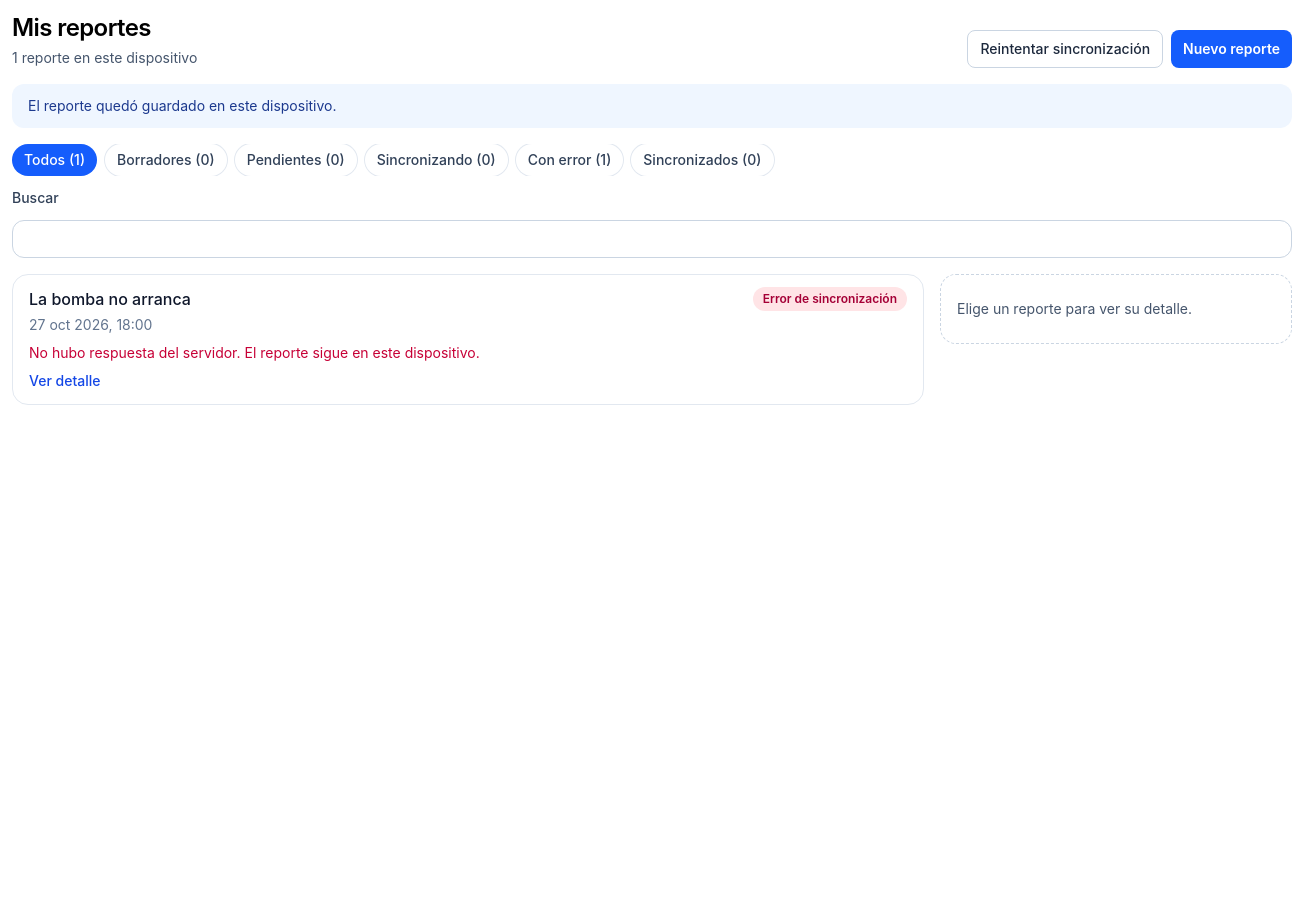
ReportsScreen › shows the sync state and keeps the error text with the report
Expected: the text "Error de sincronización" is shown, [753, 287, 907, 311]
Expected: the text "sigue en este dispositivo" is shown, [29, 344, 480, 361]
Click the button "Ver detalle": (65, 381) [29, 371, 100, 391]
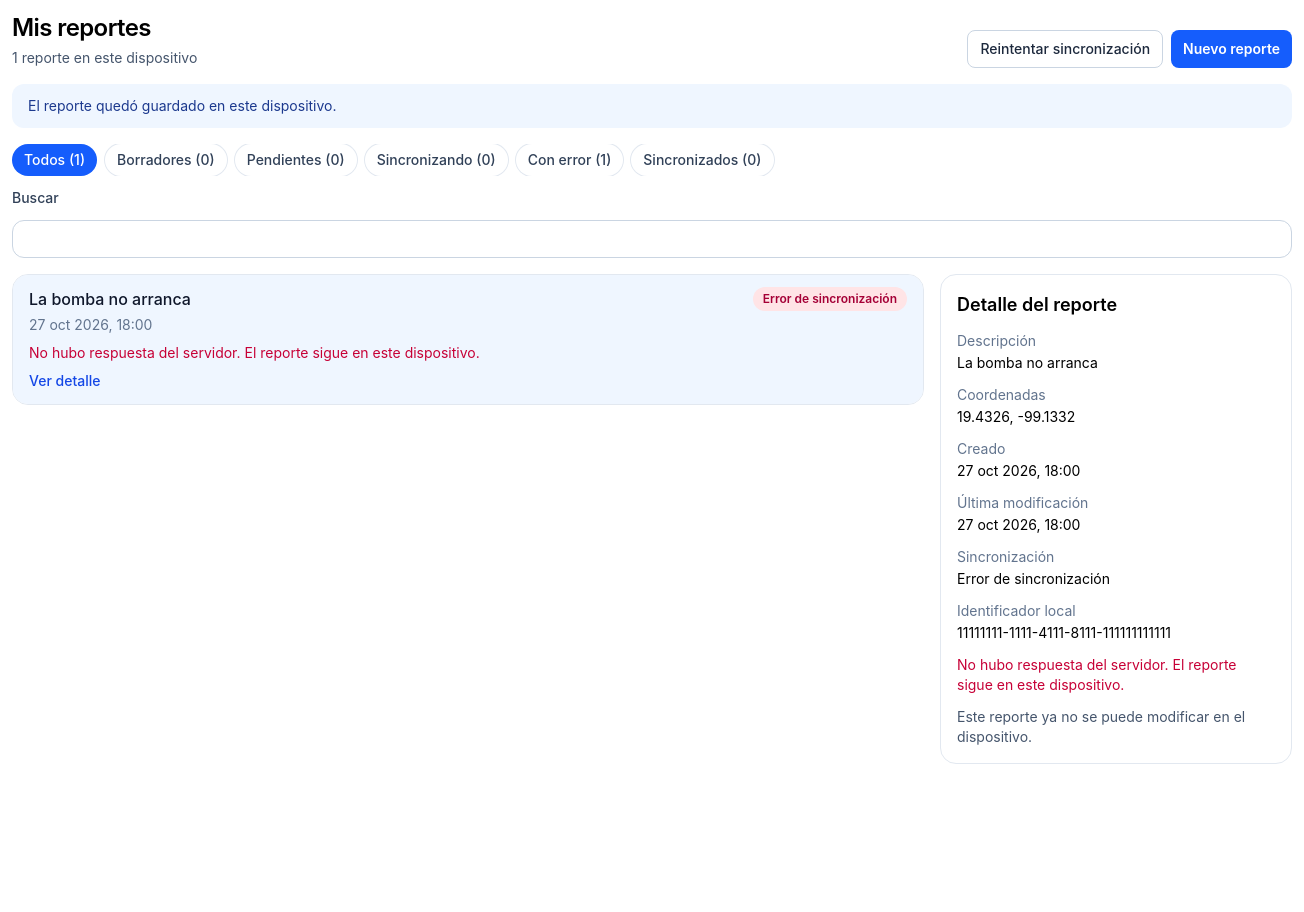
Result: the heading "Detalle del reporte" is shown at [957, 294, 1117, 315]
